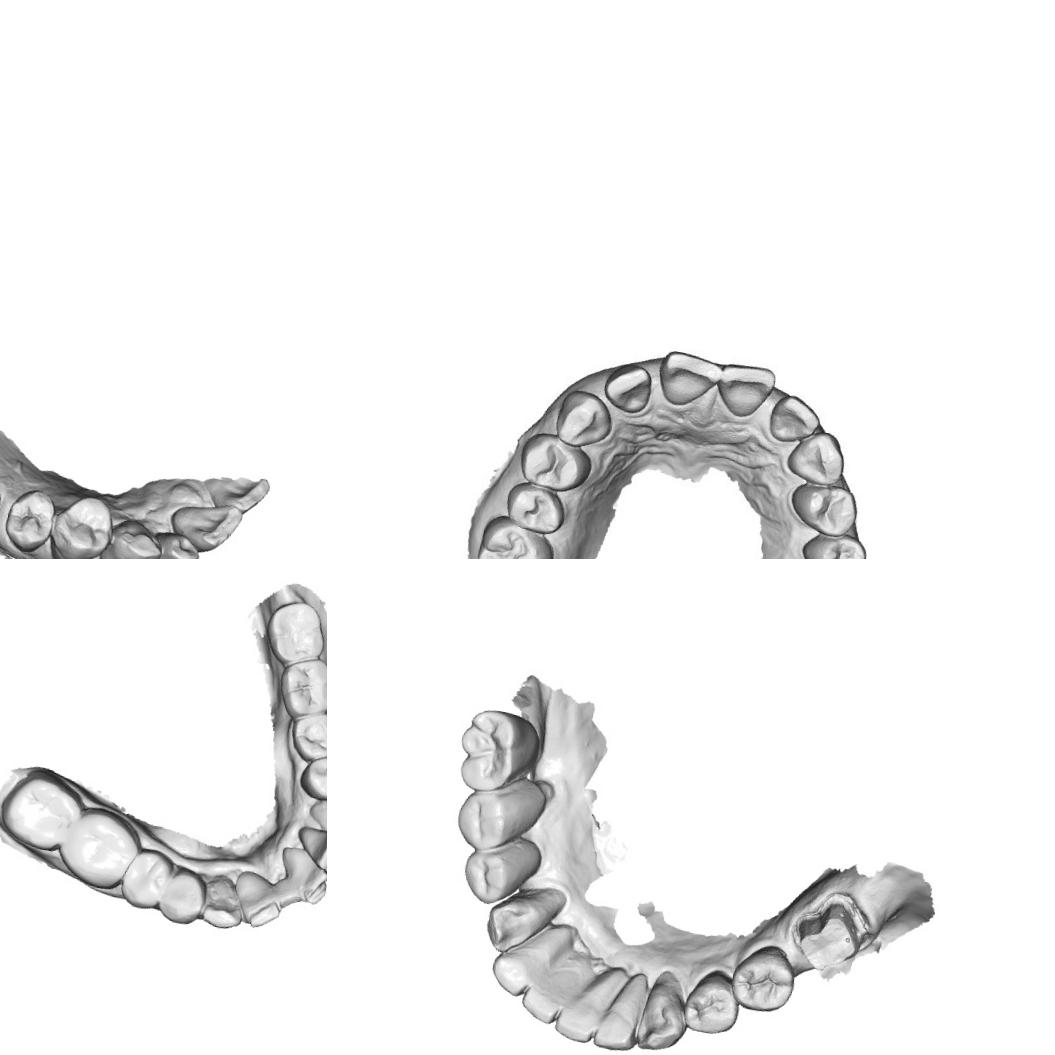canine: (476, 888, 557, 960), (629, 965, 693, 1055), (546, 382, 618, 450), (194, 870, 250, 933), (97, 512, 165, 559), (787, 430, 845, 483), (302, 790, 327, 841)
crown: (786, 887, 874, 980)
incisor: (486, 922, 558, 1002), (550, 964, 613, 1047), (165, 496, 245, 558), (591, 972, 647, 1053), (517, 958, 578, 1029), (226, 865, 288, 931), (714, 360, 776, 424), (656, 350, 722, 408), (271, 841, 327, 907), (198, 468, 272, 517), (765, 389, 820, 444), (606, 362, 654, 414), (289, 821, 327, 871), (148, 527, 204, 559)
molar: (52, 802, 146, 894), (448, 703, 532, 798), (0, 763, 85, 856), (259, 593, 327, 671), (463, 509, 563, 559), (272, 650, 327, 725)
premolar: (727, 938, 802, 1017), (450, 778, 527, 854), (44, 488, 118, 559), (678, 964, 746, 1040), (458, 838, 525, 909), (0, 483, 59, 556), (115, 843, 176, 913), (520, 434, 591, 490), (503, 480, 570, 539), (154, 862, 210, 928), (796, 482, 856, 536), (281, 705, 327, 767), (797, 523, 871, 559), (294, 747, 327, 808)
